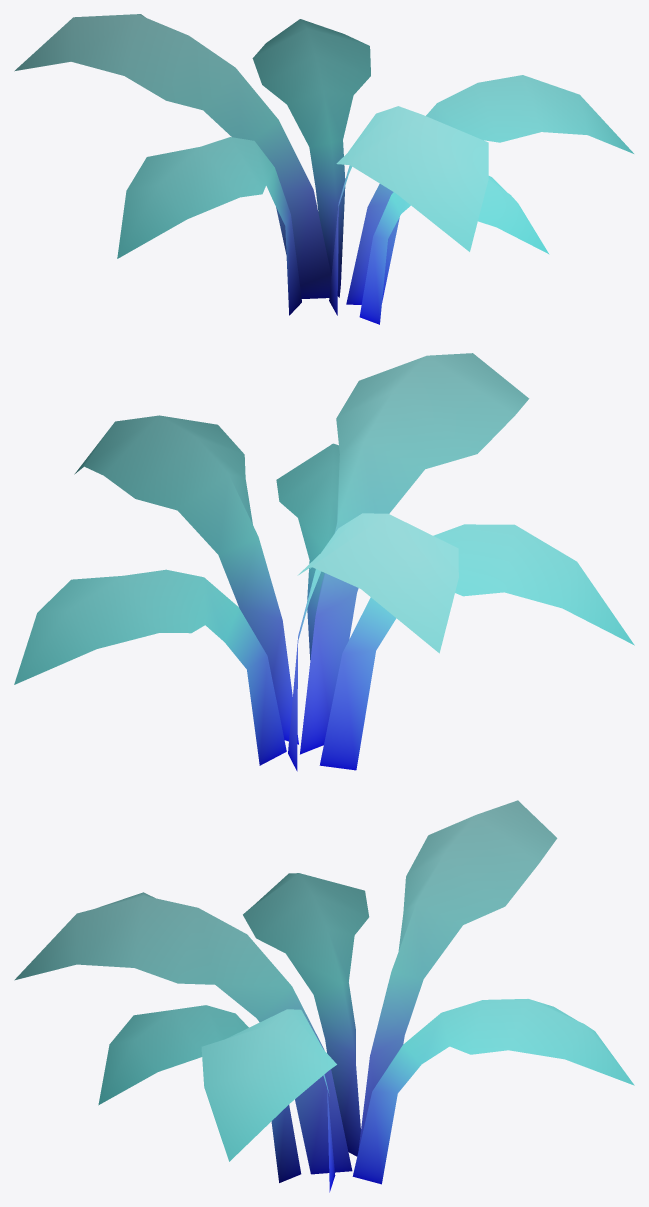
Rendered from SM_Env_Fern_03.glb.
3 views of the same model, one above another, from view 1: azimuth 30°, elevation 25°; view 2: azimuth 150°, elevation 25°; view 3: azimuth 270°, elevation 25° (orthographic). The views are drawn at different scales.
Parts seen in each view (by area): view 1: SM_Env_Fern_03_LOD0; view 2: SM_Env_Fern_03_LOD0; view 3: SM_Env_Fern_03_LOD0.
Boxes of the visible parts, box(x1,y1,x2,y2) form: SM_Env_Fern_03_LOD0: box(14, 14, 633, 324); SM_Env_Fern_03_LOD0: box(14, 353, 634, 771); SM_Env_Fern_03_LOD0: box(14, 800, 634, 1192).
Size of what is drawn, in the model's own units: 2.24 by 1.2 by 2.34.
